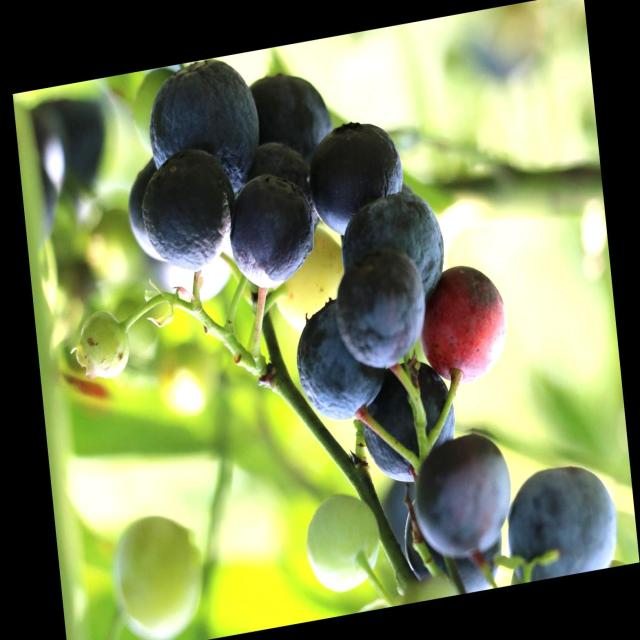blueberry: (148, 57, 267, 200), (503, 461, 618, 584), (361, 356, 462, 494), (141, 144, 239, 283), (336, 193, 450, 310), (416, 432, 516, 561), (291, 290, 385, 427), (306, 118, 408, 242), (328, 247, 428, 372), (227, 169, 315, 295), (250, 63, 334, 172)
blueberry-halfripe: (409, 254, 515, 392)
blueberry-unripe: (111, 498, 209, 640), (302, 487, 385, 595), (274, 232, 356, 335), (73, 302, 132, 384)
